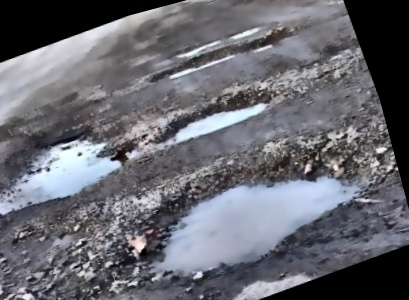pothole: (88, 108, 403, 300), (0, 113, 144, 216), (142, 22, 298, 93), (141, 81, 279, 154), (165, 17, 273, 62)
